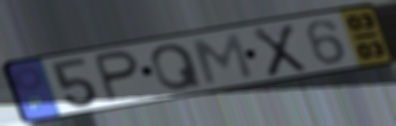5: (47, 55, 100, 109)
6: (303, 17, 349, 66)
M: (190, 31, 256, 87)
P: (91, 48, 142, 105)
Q: (148, 42, 205, 93)
X: (249, 22, 310, 79)
